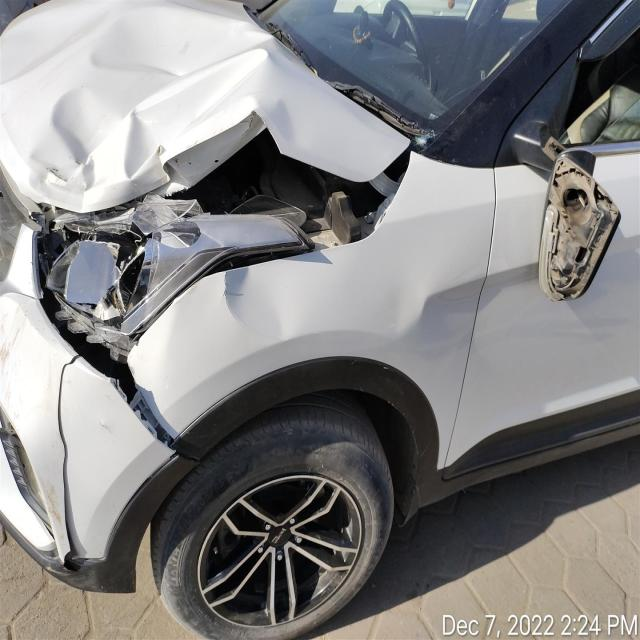damage: (29, 7, 312, 219), (33, 193, 316, 379), (221, 244, 427, 346), (542, 163, 626, 300), (55, 350, 86, 578)
